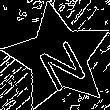N_NW: (28, 26, 88, 89)
